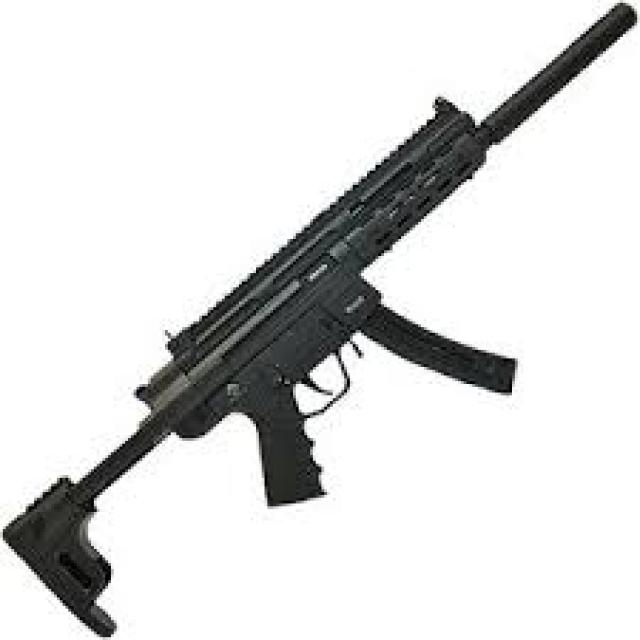rifle: (1, 3, 640, 640)
